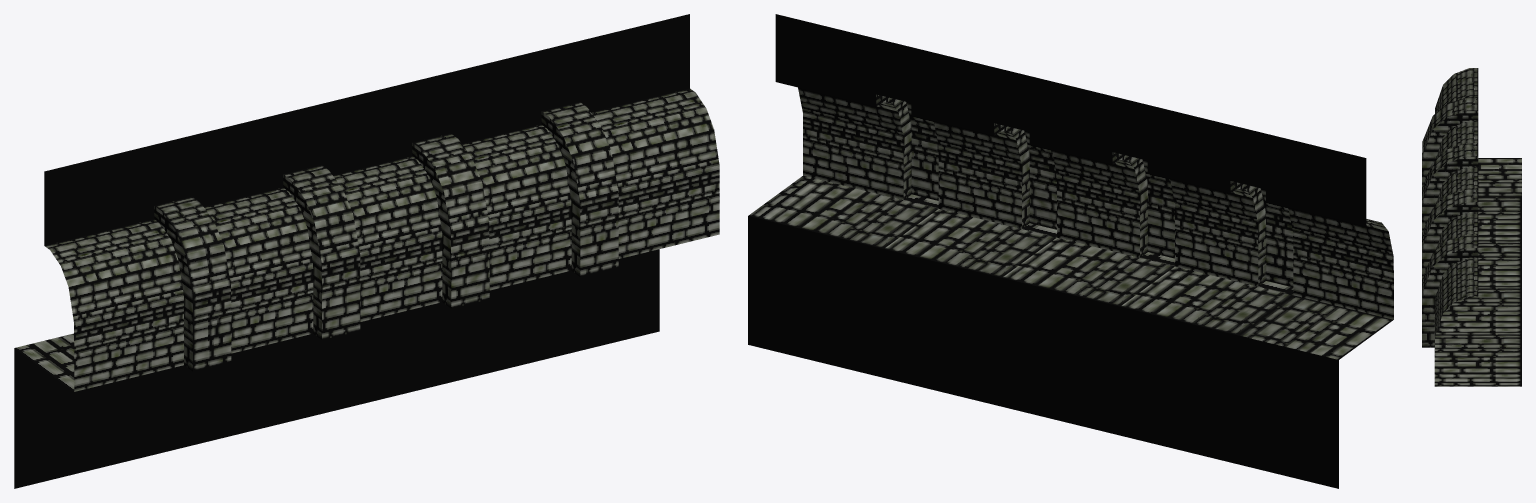
File: Castle_Tunnel.fbx
The picture shows the model from 3 angles, left to right: view 1: azimuth 30°, elevation 25°; view 2: azimuth 150°, elevation 25°; view 3: azimuth 270°, elevation 25°; orthographic projection. The views are drawn at different scales.
Parts seen in each view (by area): view 1: Cylinder.001; view 2: Cylinder.001; view 3: Cylinder.001.
Boxes of the visible parts, bbox=[...] form: Cylinder.001: bbox=[14, 14, 719, 488]; Cylinder.001: bbox=[748, 14, 1393, 488]; Cylinder.001: bbox=[1422, 68, 1521, 386].
Size of the model in its own units: 3505 by 1761 by 647.
Materials: 2 (1 with a texture image).
